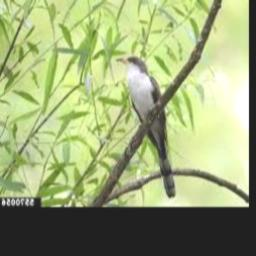Cuckoo: (117, 56, 176, 198)
